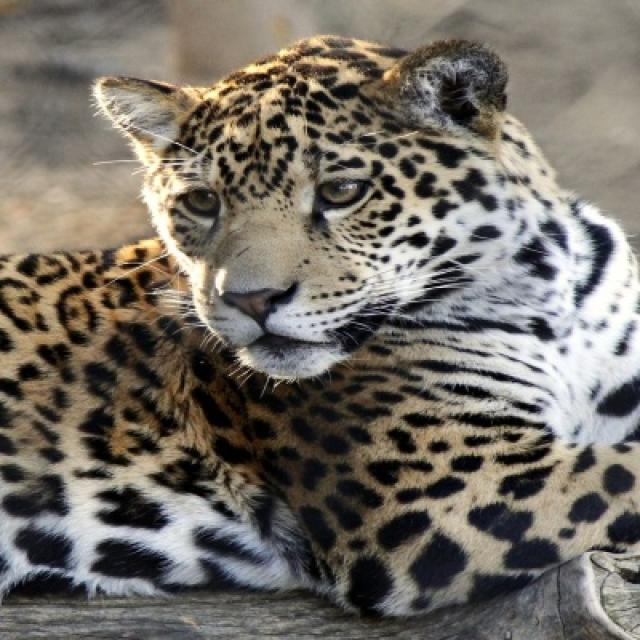Jaguar: (0, 35, 638, 635)
